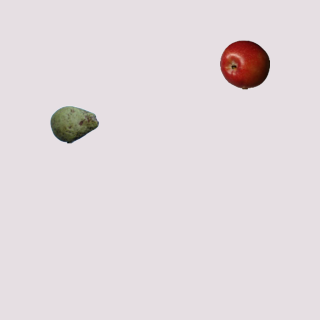Apple Braeburn: (219, 39, 269, 89)
Pear Stone: (49, 99, 99, 149)
